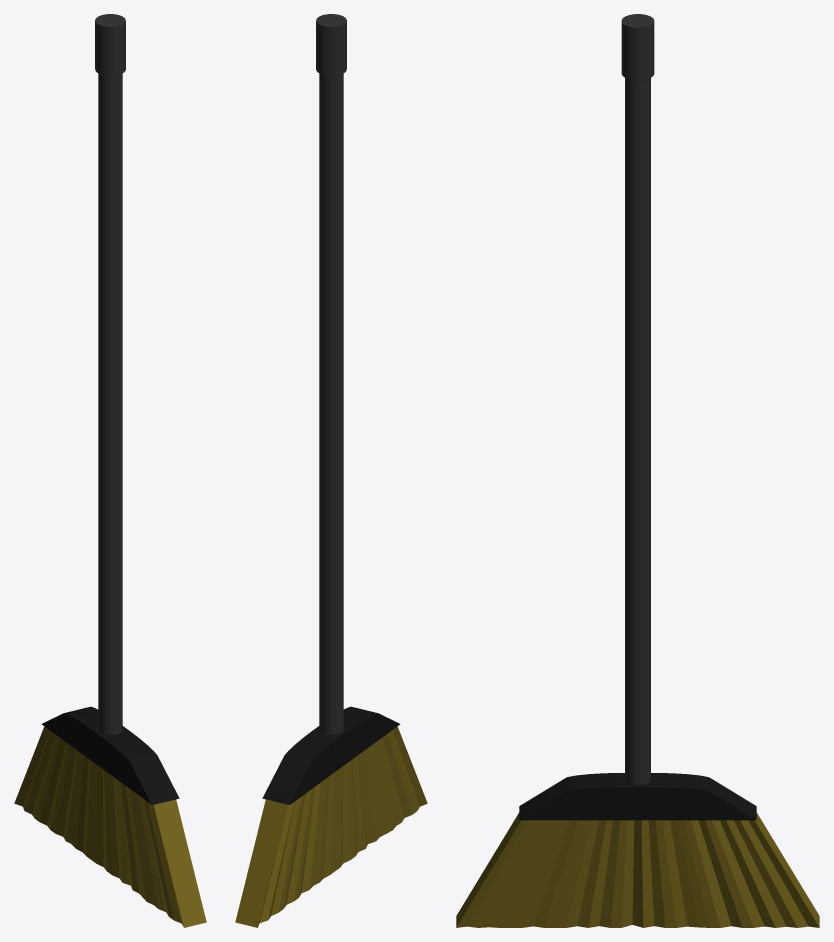
The model's file is Broom.fbx.
3 renders of one model, left to right at view 1: azimuth 30°, elevation 25°; view 2: azimuth 150°, elevation 25°; view 3: azimuth 270°, elevation 25°, orthographic. The views are drawn at different scales.
Visible parts, largest first — view 1: BroomHandle, Broom, BroomHead; view 2: BroomHandle, Broom, BroomHead; view 3: Broom, BroomHandle, BroomHead.
Part boxes in pixels (x1=…): BroomHandle: x1=95, y1=14, x2=125, y2=734; Broom: x1=14, y1=726, x2=206, y2=927; BroomHead: x1=41, y1=706, x2=179, y2=805; BroomHandle: x1=316, y1=14, x2=346, y2=734; Broom: x1=235, y1=726, x2=427, y2=927; BroomHead: x1=262, y1=706, x2=400, y2=805; Broom: x1=456, y1=812, x2=819, y2=927; BroomHandle: x1=621, y1=14, x2=654, y2=785; BroomHead: x1=519, y1=773, x2=756, y2=820.
Bounding box in the file's own units: 23.92 × 702 × 257.
